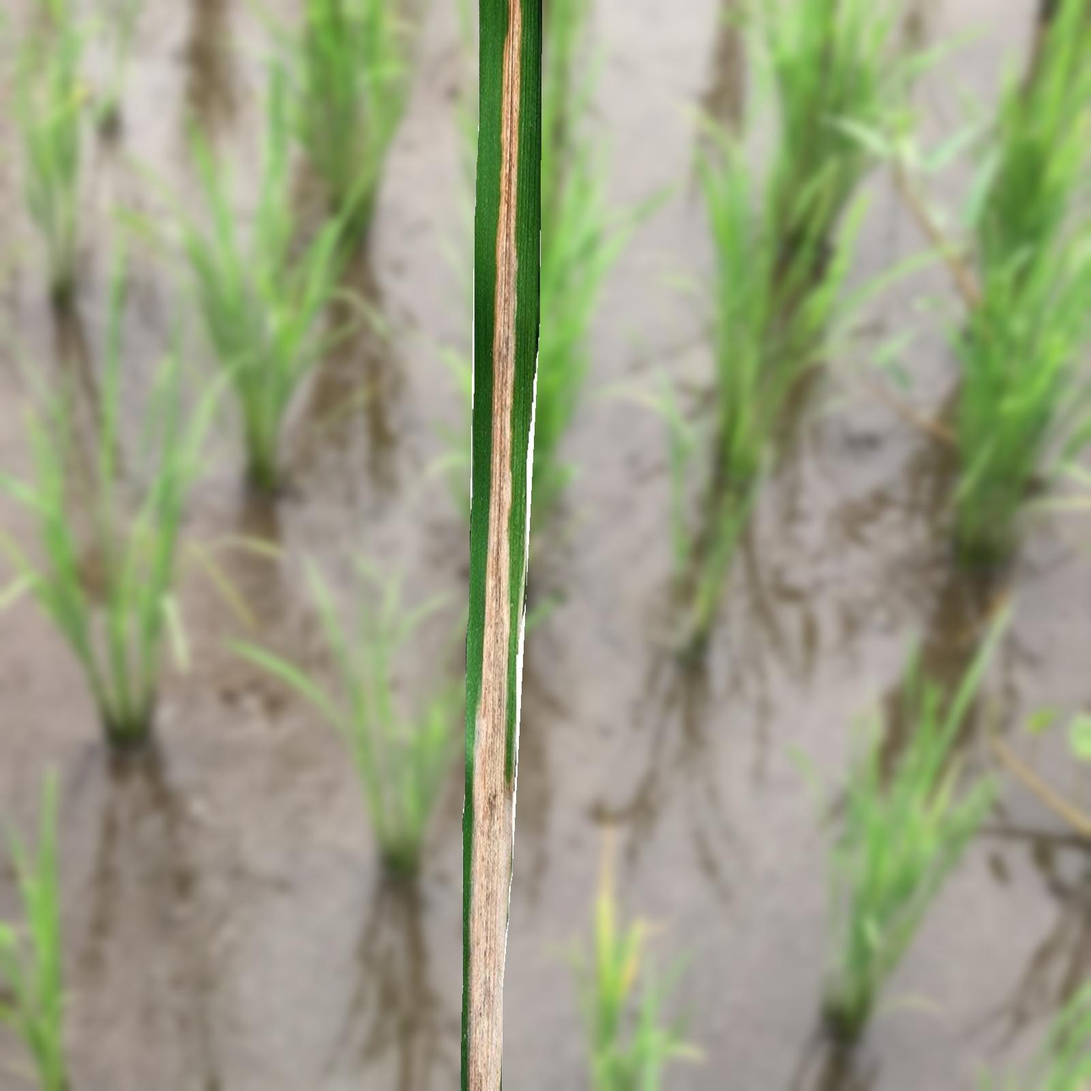BLB: (468, 0, 527, 1090)
LEAF: (460, 0, 541, 1090)
